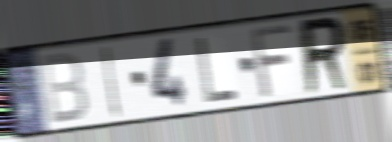4: (148, 34, 193, 114)
B: (38, 49, 90, 127)
F: (248, 22, 295, 101)
I: (101, 43, 123, 121)
L: (193, 35, 241, 106)
R: (298, 14, 351, 99)
